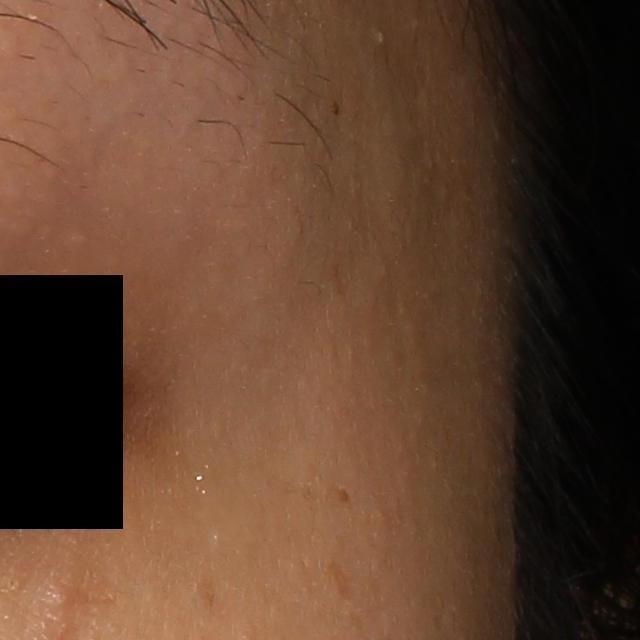comedo: (42, 578, 75, 617)
melasma: (323, 542, 355, 595), (191, 566, 220, 610)
